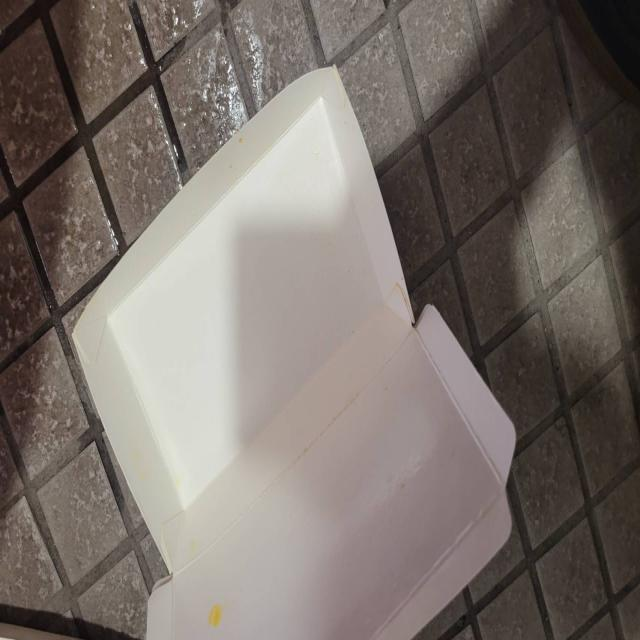Paper bowl: (42, 51, 536, 640)
